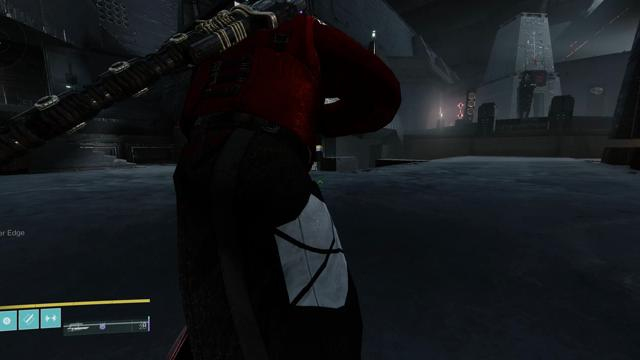brain: (588, 83, 606, 97)
stop: (533, 72, 545, 84)
